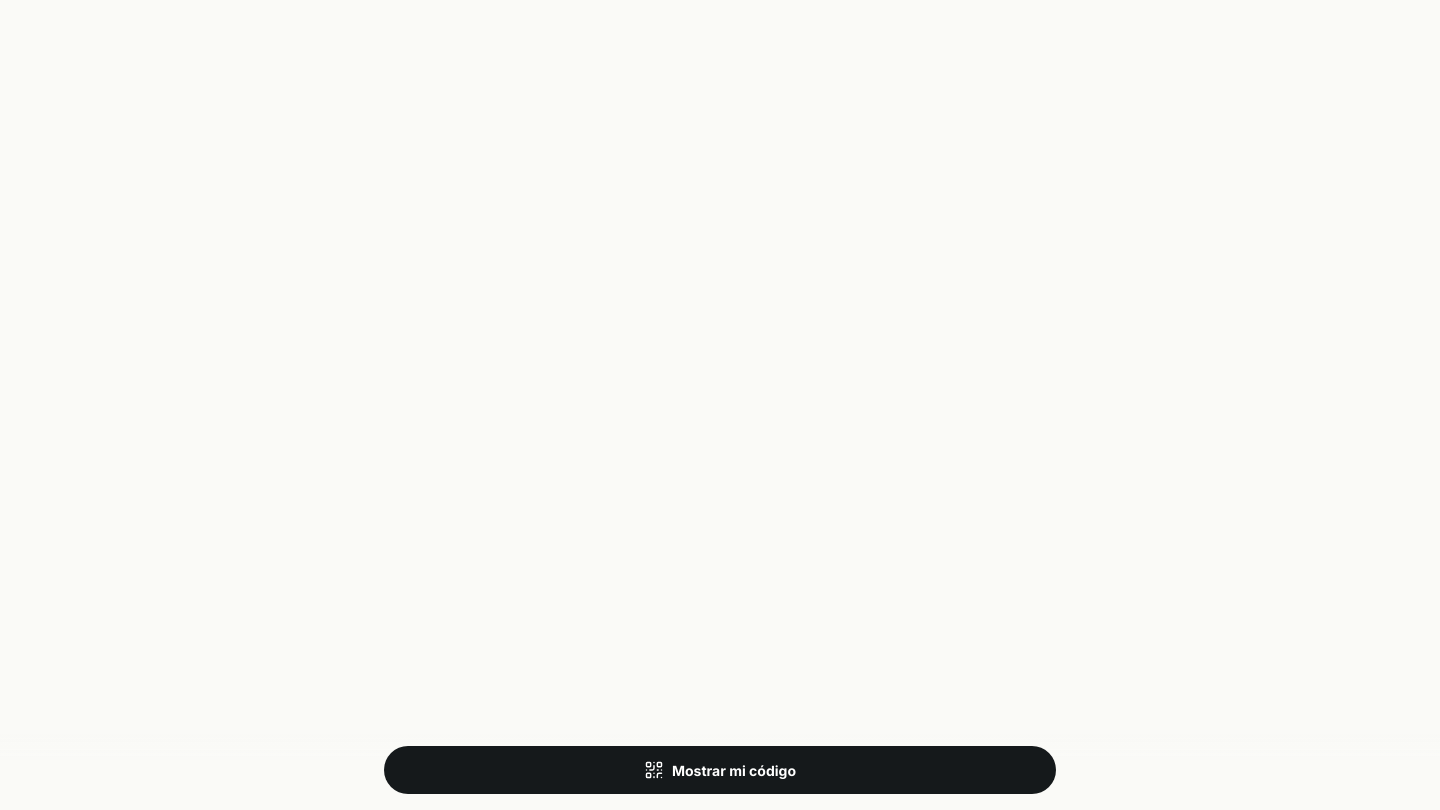
the QR sheet › shows only the QR and says where the code comes from when it is not minted
Click the button "Mostrar mi código" at (720, 770), box [384, 746, 1056, 794]
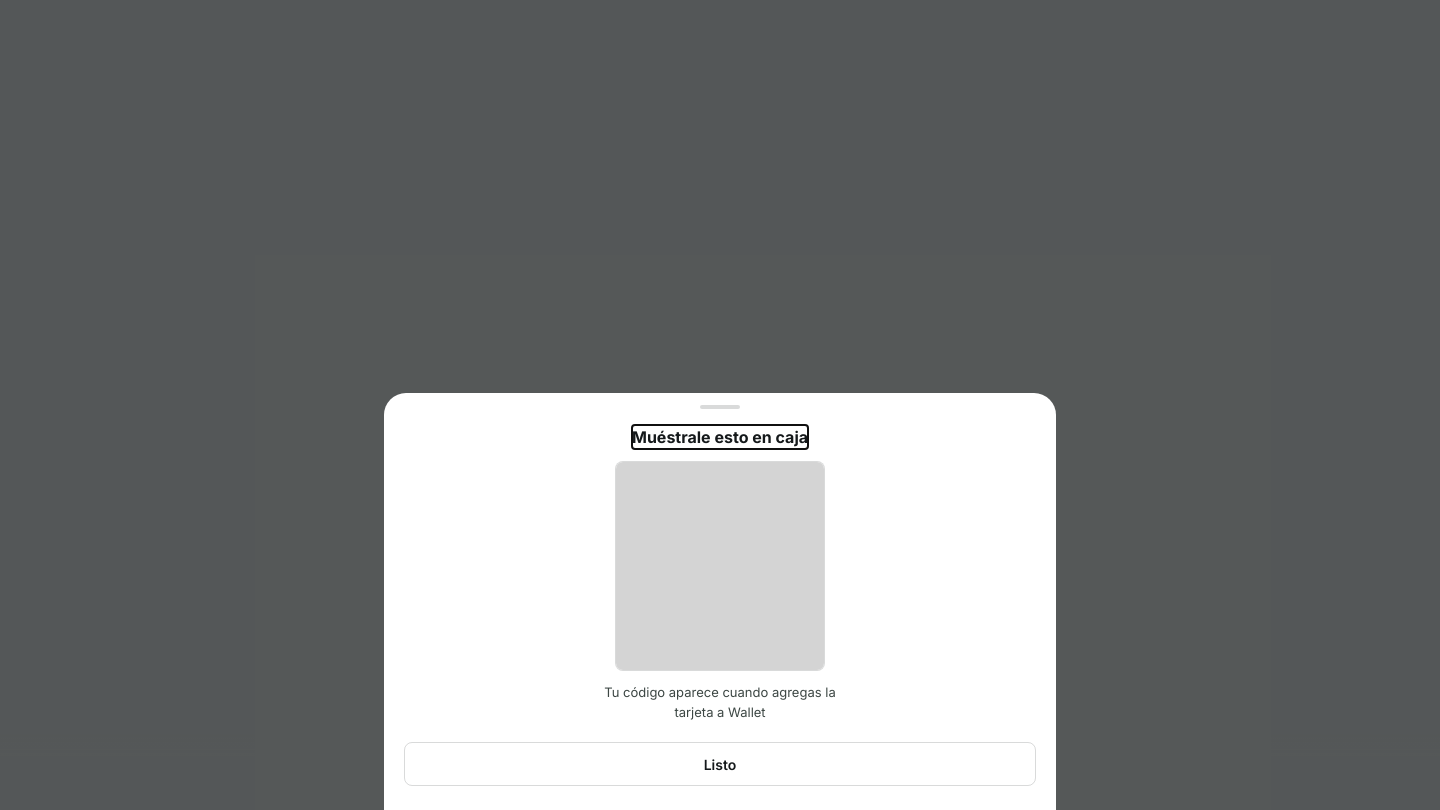
Expected: the text "Tu código aparece cuando agregas la tarjeta a Wallet" is shown, [597, 683, 843, 722]
